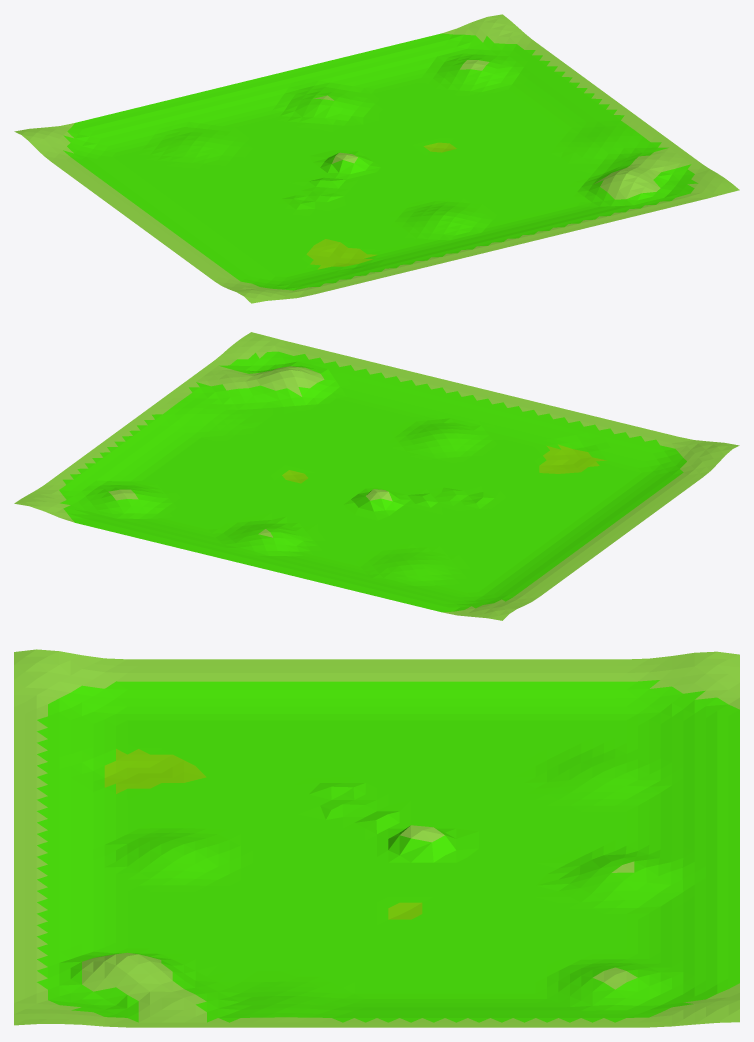
Rendered from road01.glb.
3 renders of one model, top to bottom at view 1: azimuth 30°, elevation 25°; view 2: azimuth 150°, elevation 25°; view 3: azimuth 270°, elevation 25°, orthographic. The views are drawn at different scales.
Visible parts, largest first — view 1: Plane-col; view 2: Plane-col; view 3: Plane-col.
Boxes of the visible parts, box(x1,y1,x2,y2) form: Plane-col: box(14, 14, 739, 303); Plane-col: box(14, 332, 739, 620); Plane-col: box(14, 649, 739, 1027).
Size of the model in its own units: 772 by 27.49 by 650.
